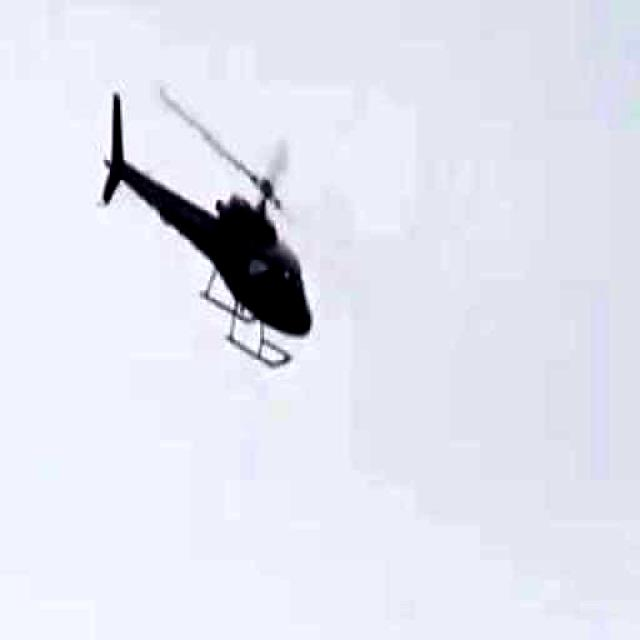drone: (90, 82, 324, 382)
